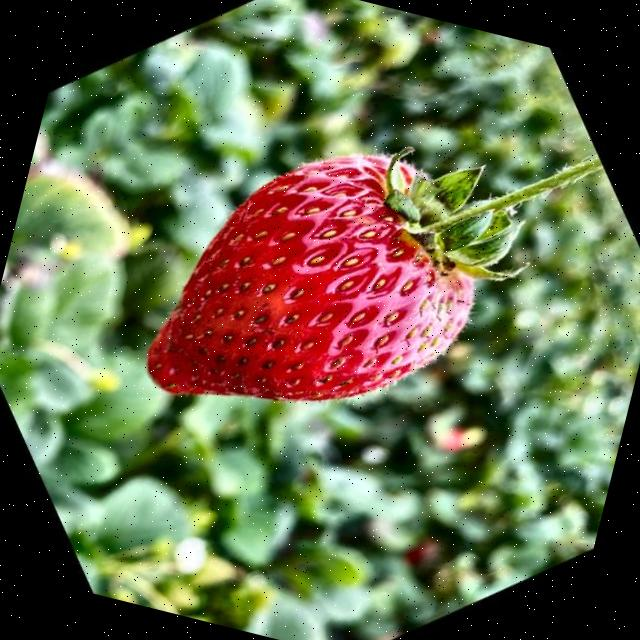strawberry: (147, 147, 600, 400)
